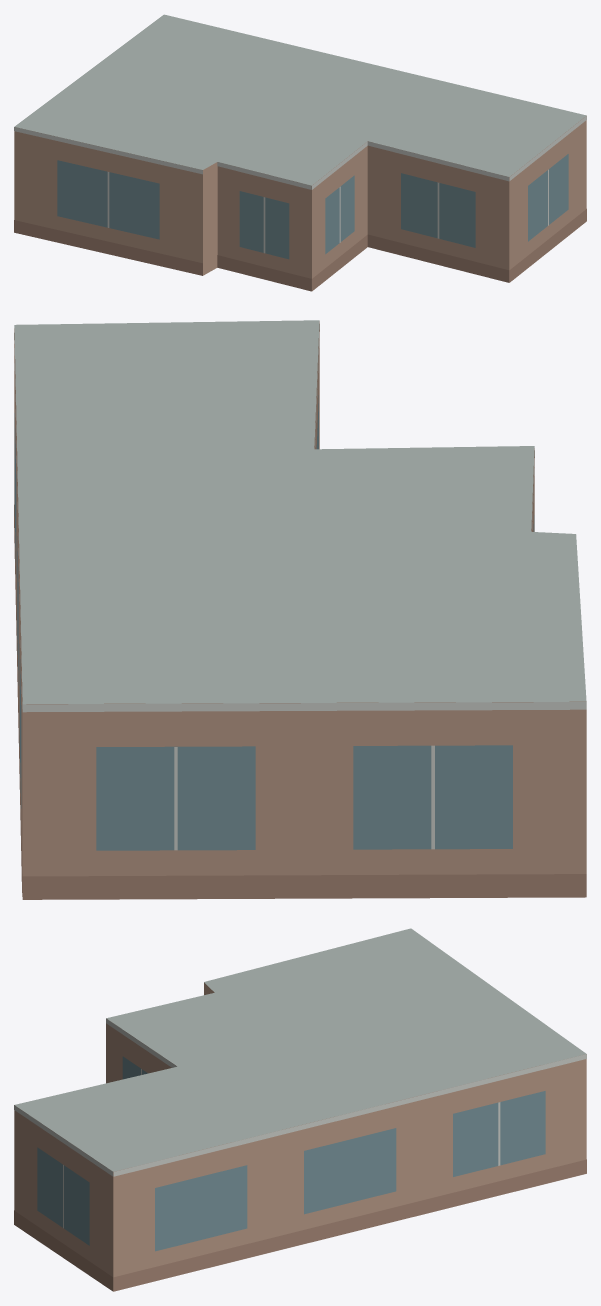
The model's file is survey-upis-32761103.glb.
The picture shows the model from 3 angles, top to bottom: view 1: azimuth 30°, elevation 25°; view 2: azimuth 150°, elevation 25°; view 3: azimuth 270°, elevation 25°; orthographic projection. The views are drawn at different scales.
Visible parts, largest first — view 1: survey-upis-32761103.tmp; view 2: survey-upis-32761103.tmp; view 3: survey-upis-32761103.tmp.
Boxes of the visible parts, box(x1,y1,x2,y2) form: survey-upis-32761103.tmp: box(14, 14, 586, 291); survey-upis-32761103.tmp: box(14, 320, 586, 899); survey-upis-32761103.tmp: box(14, 928, 586, 1291).
Bounding box in the file's own units: 13.32 × 3.05 × 13.23.
